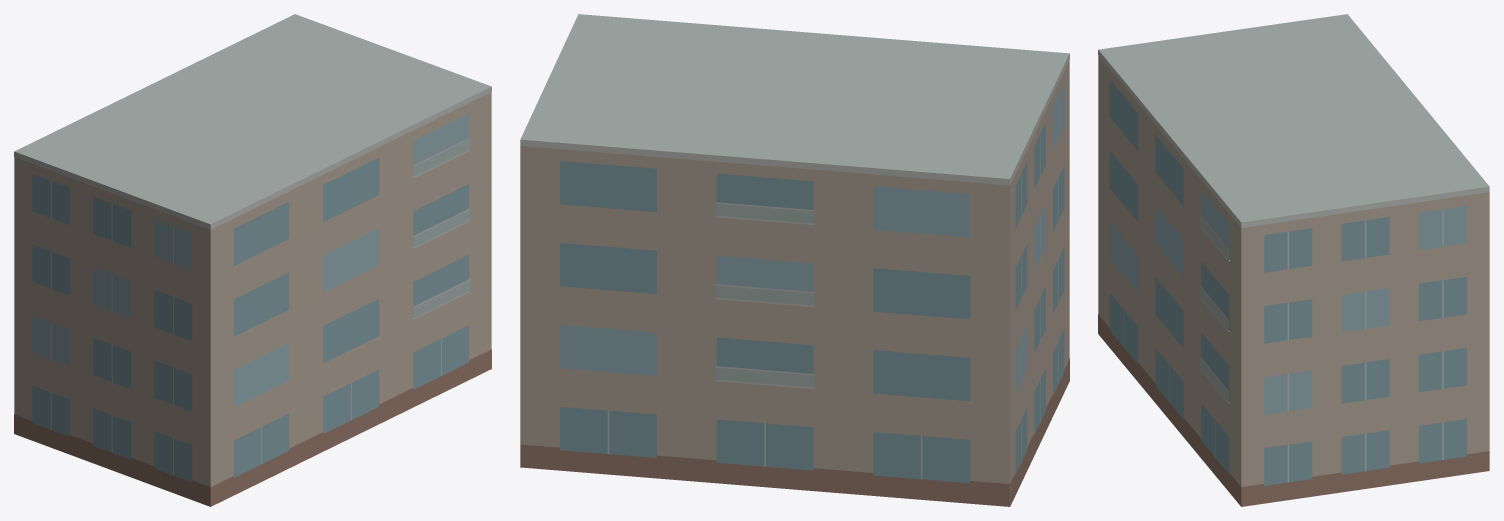
The model's file is survey-upis-32698186.glb.
3 views of the same model, side by side, from view 1: azimuth 30°, elevation 25°; view 2: azimuth 150°, elevation 25°; view 3: azimuth 270°, elevation 25° (orthographic). The views are drawn at different scales.
Visible parts, largest first — view 1: survey-upis-32698186.tmp; view 2: survey-upis-32698186.tmp; view 3: survey-upis-32698186.tmp.
Part boxes in pixels (x1,y1,x2,y2): survey-upis-32698186.tmp: [14, 14, 491, 506]; survey-upis-32698186.tmp: [520, 14, 1069, 506]; survey-upis-32698186.tmp: [1098, 14, 1489, 506].
Size of the model in its own units: 19.84 by 12.6 by 15.74.
